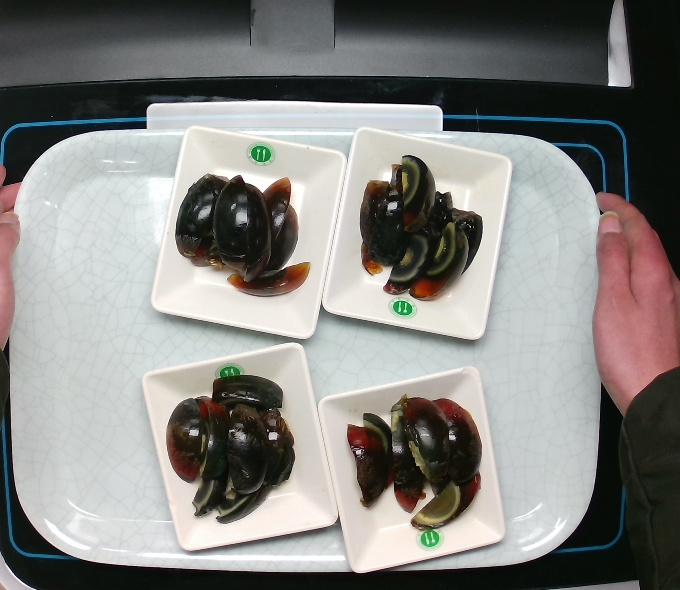wcq-PiDan: (154, 365, 303, 527), (351, 146, 493, 307), (171, 151, 319, 303), (340, 381, 484, 535)
